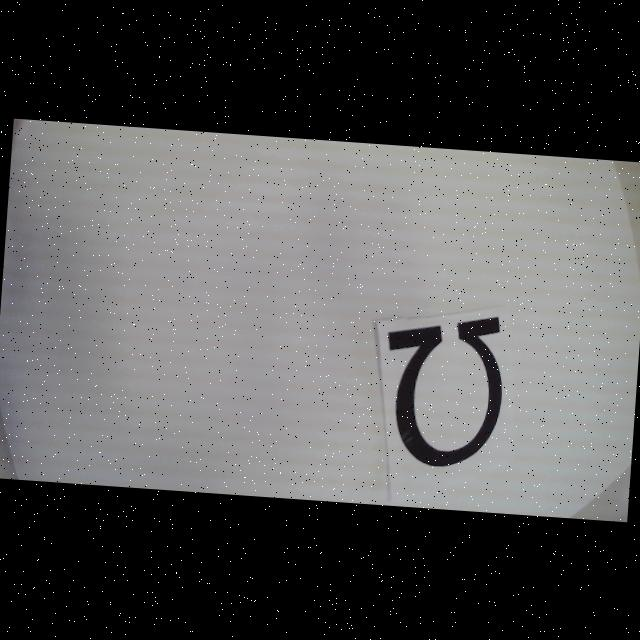OMEGA: (378, 308, 508, 471)
